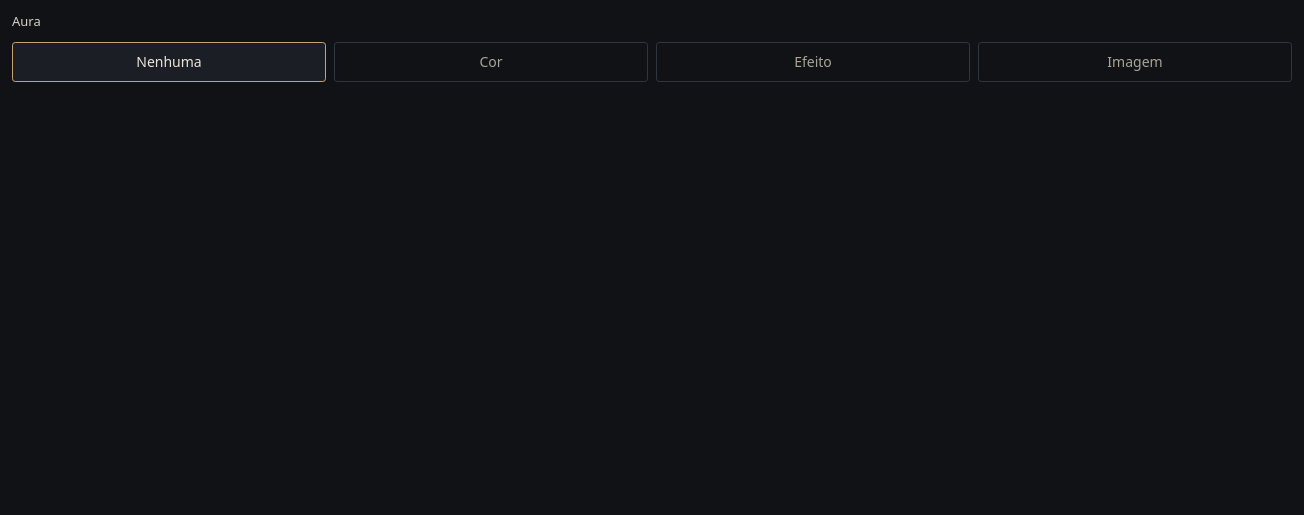
Scenario: AuraEditor › Imagem offers the shape Quadrada or Redonda, Quadrada checked at first
What coordinates should you click on to do the following:
click the radio button labelled "Imagem"
I would click on:
 (1135, 62)
Its box is [978,42,1292,82].
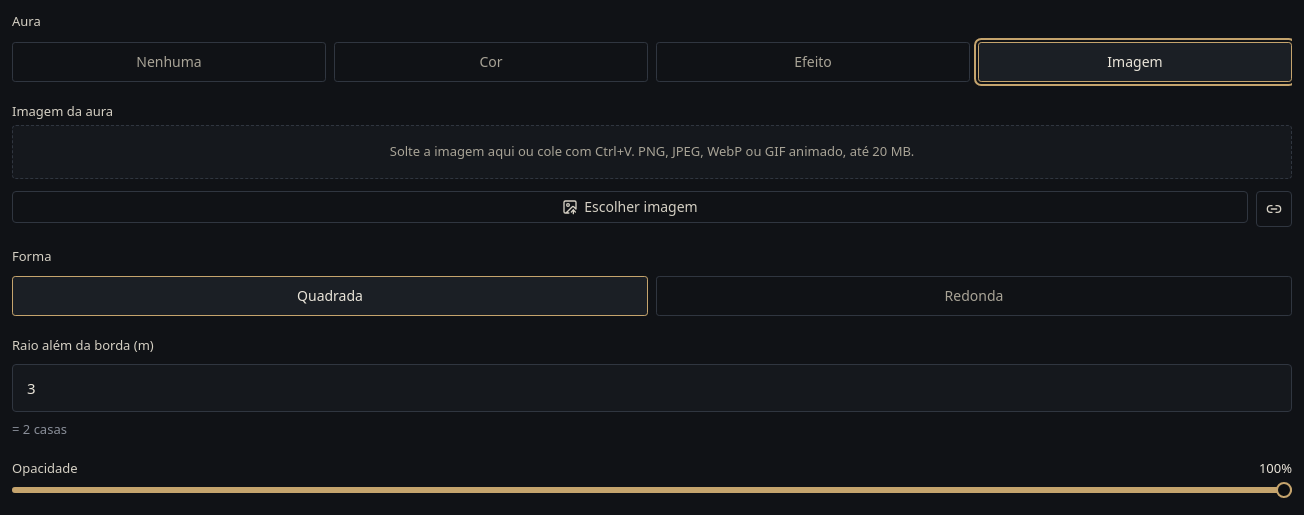
Expected: the element named "Forma" is shown, [12,276,1292,316]
Expected: the radio button labelled "Quadrada" is checked, [12,276,648,316]
Expected: the radio button labelled "Redonda" is not checked, [656,276,1292,316]
